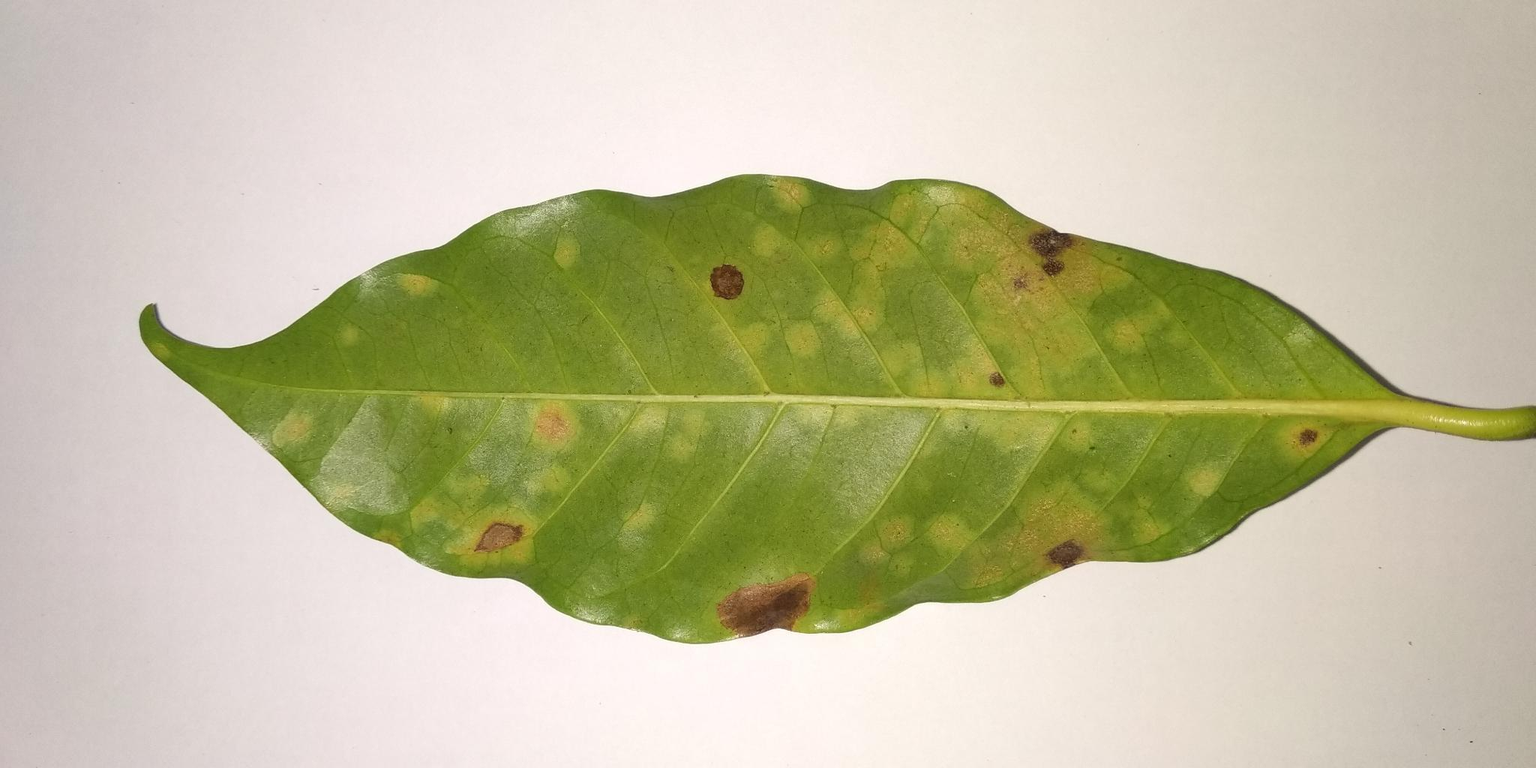Cercospora: (447, 488, 548, 592)
Miner: (705, 559, 827, 651)
